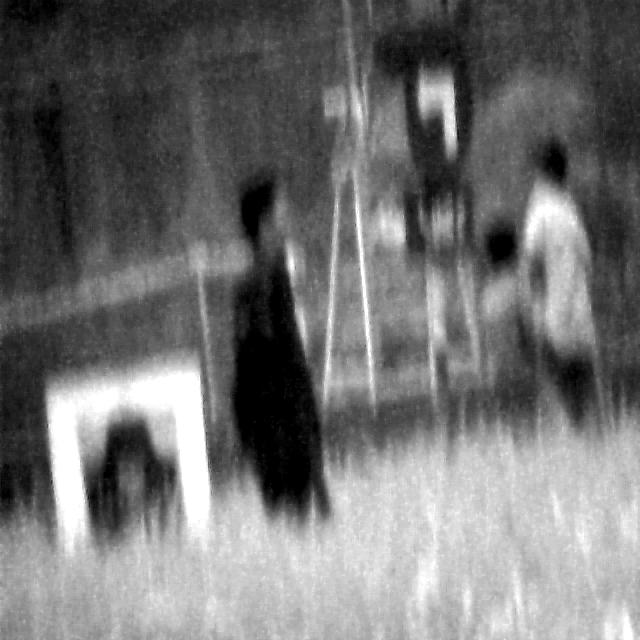bia: (76, 399, 188, 554)
